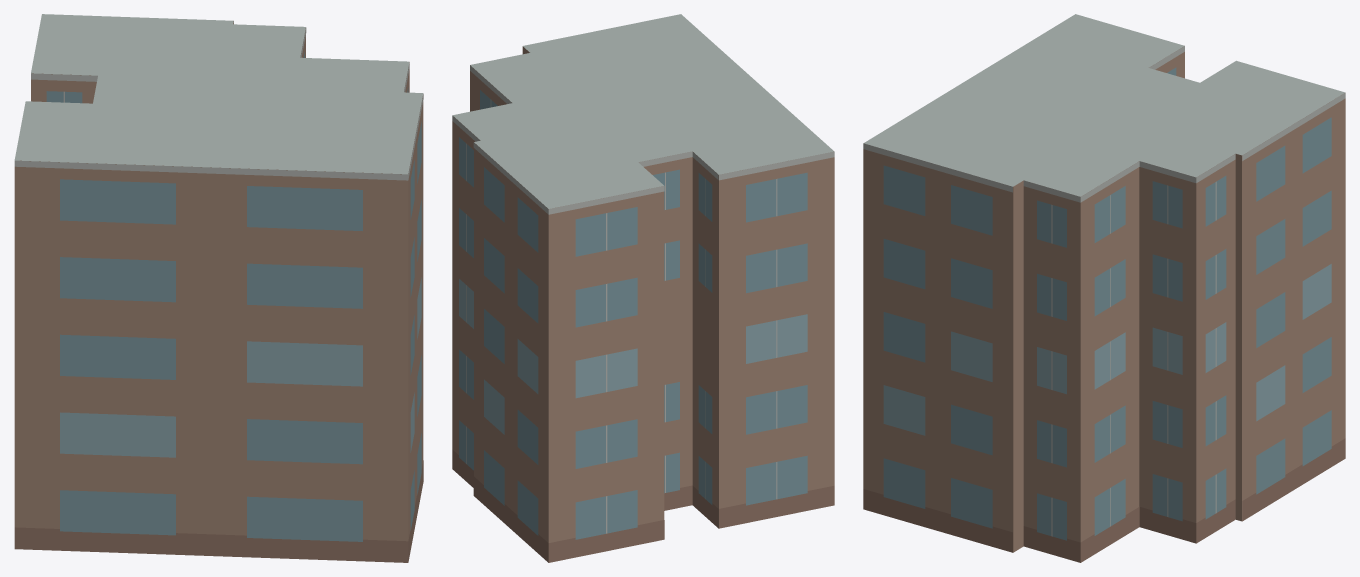
The model's file is survey-upis-32792908.glb.
3 renders of one model, left to right at view 1: azimuth 30°, elevation 25°; view 2: azimuth 150°, elevation 25°; view 3: azimuth 270°, elevation 25°, orthographic. The views are drawn at different scales.
Parts seen in each view (by area): view 1: survey-upis-32792908.tmp; view 2: survey-upis-32792908.tmp; view 3: survey-upis-32792908.tmp.
Boxes of the visible parts, bbox=[...] form: survey-upis-32792908.tmp: bbox=[14, 14, 423, 562]; survey-upis-32792908.tmp: bbox=[452, 14, 834, 562]; survey-upis-32792908.tmp: bbox=[863, 14, 1345, 562].
Bounding box in the file's own units: 16.34 × 15.25 × 18.21.
